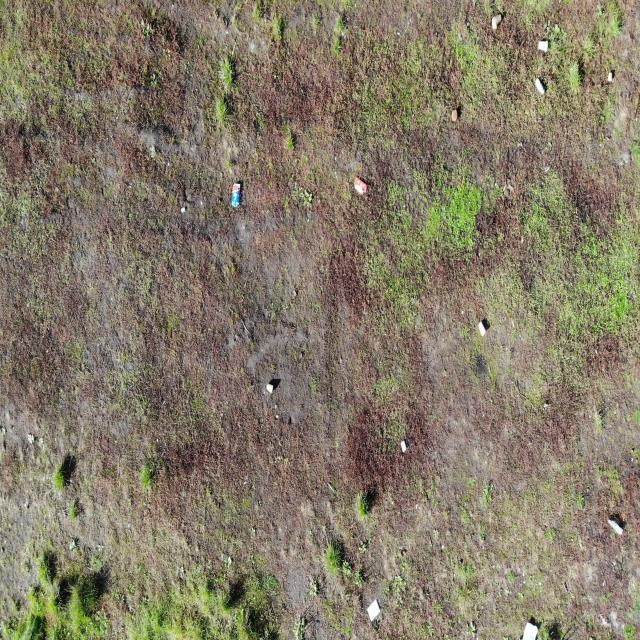rubbish: (366, 599, 382, 622), (522, 622, 539, 640), (608, 520, 624, 537), (231, 182, 241, 209), (534, 76, 546, 95), (354, 177, 368, 193), (492, 14, 503, 30), (477, 320, 487, 337), (326, 481, 336, 496), (537, 41, 548, 54), (266, 383, 273, 395), (400, 440, 407, 452), (452, 109, 458, 122), (607, 71, 613, 82), (180, 206, 186, 213), (200, 201, 202, 205)
